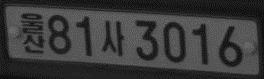0: (163, 21, 187, 62)
1: (191, 20, 209, 68), (75, 15, 94, 57)
3: (134, 18, 160, 62)
6: (219, 24, 246, 64)
8: (43, 12, 71, 56)
사: (99, 17, 126, 65)
울산_V: (20, 12, 46, 54)
